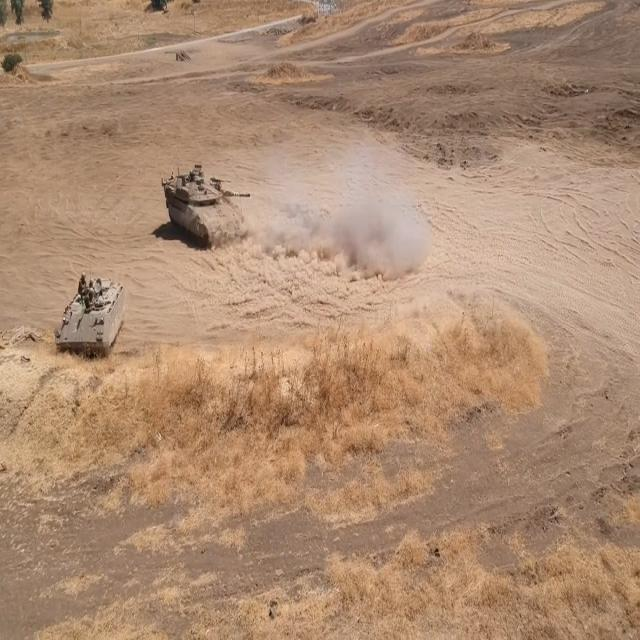tank: (158, 166, 255, 247)
